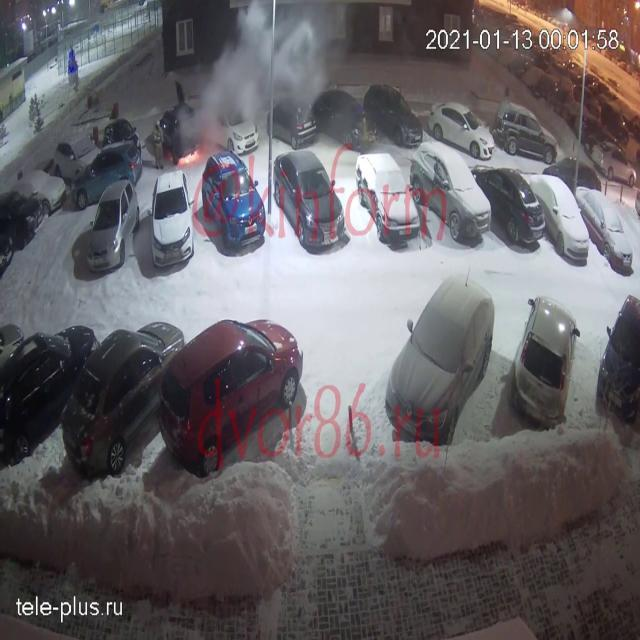Smoke: (178, 1, 356, 148)
